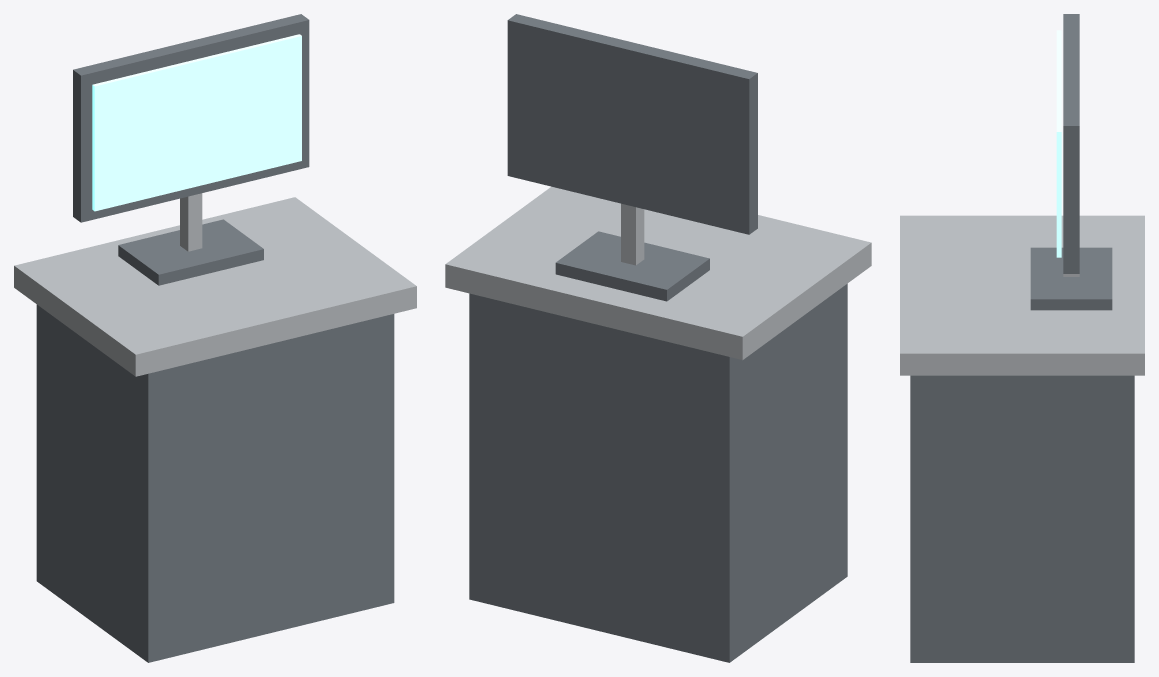
File: mech-hangar-and-battle-frames-diagnostic-console-82291280__26963.glb
3 views of the same model, side by side, from view 1: azimuth 30°, elevation 25°; view 2: azimuth 150°, elevation 25°; view 3: azimuth 270°, elevation 25° (orthographic). The views are drawn at different scales.
Parts seen in each view (by area): view 1: diagnostic-console; view 2: diagnostic-console; view 3: diagnostic-console.
Boxes of the visible parts, x1=… form: diagnostic-console: x1=14, y1=14, x2=416, y2=662; diagnostic-console: x1=445, y1=14, x2=871, y2=662; diagnostic-console: x1=900, y1=14, x2=1144, y2=662.
Size of the model in its own units: 0.8 by 1.44 by 0.6.
